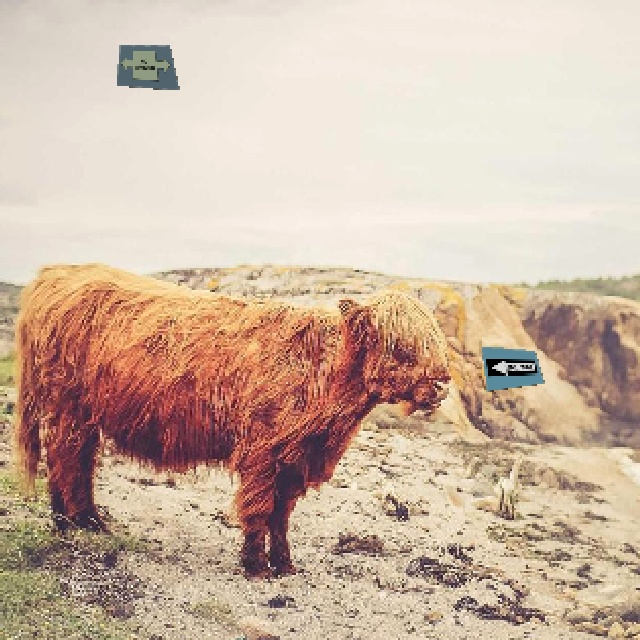GO_AROUND: (117, 46, 172, 80)
ONE_WAY_ left: (483, 356, 537, 375)
